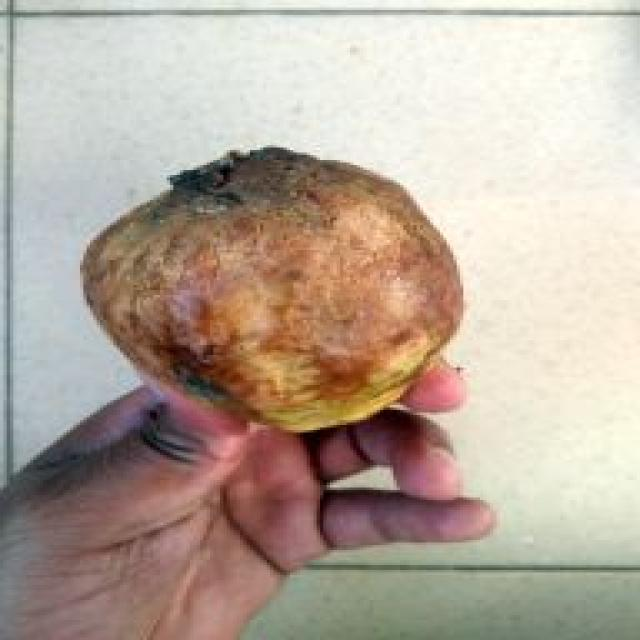Bad_Guava: (83, 148, 463, 432)
